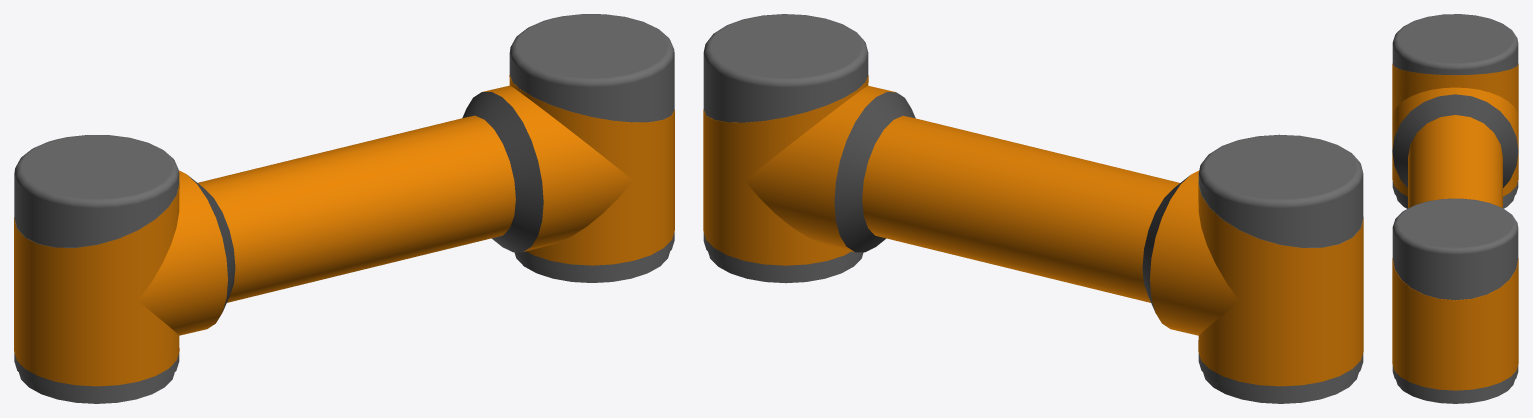
3 views of the same model, side by side, from view 1: azimuth 30°, elevation 25°; view 2: azimuth 150°, elevation 25°; view 3: azimuth 270°, elevation 25° (orthographic). The views are drawn at different scales.
Visible parts, largest first — view 1: NONE; view 2: NONE; view 3: NONE.
Boxes of the visible parts, left/top/right/bottom form: NONE: left=14, top=14, right=674, bottom=403; NONE: left=703, top=14, right=1363, bottom=403; NONE: left=1392, top=14, right=1518, bottom=403.
Bounding box in the file's own units: 0.526 × 0.118 × 0.1603.
